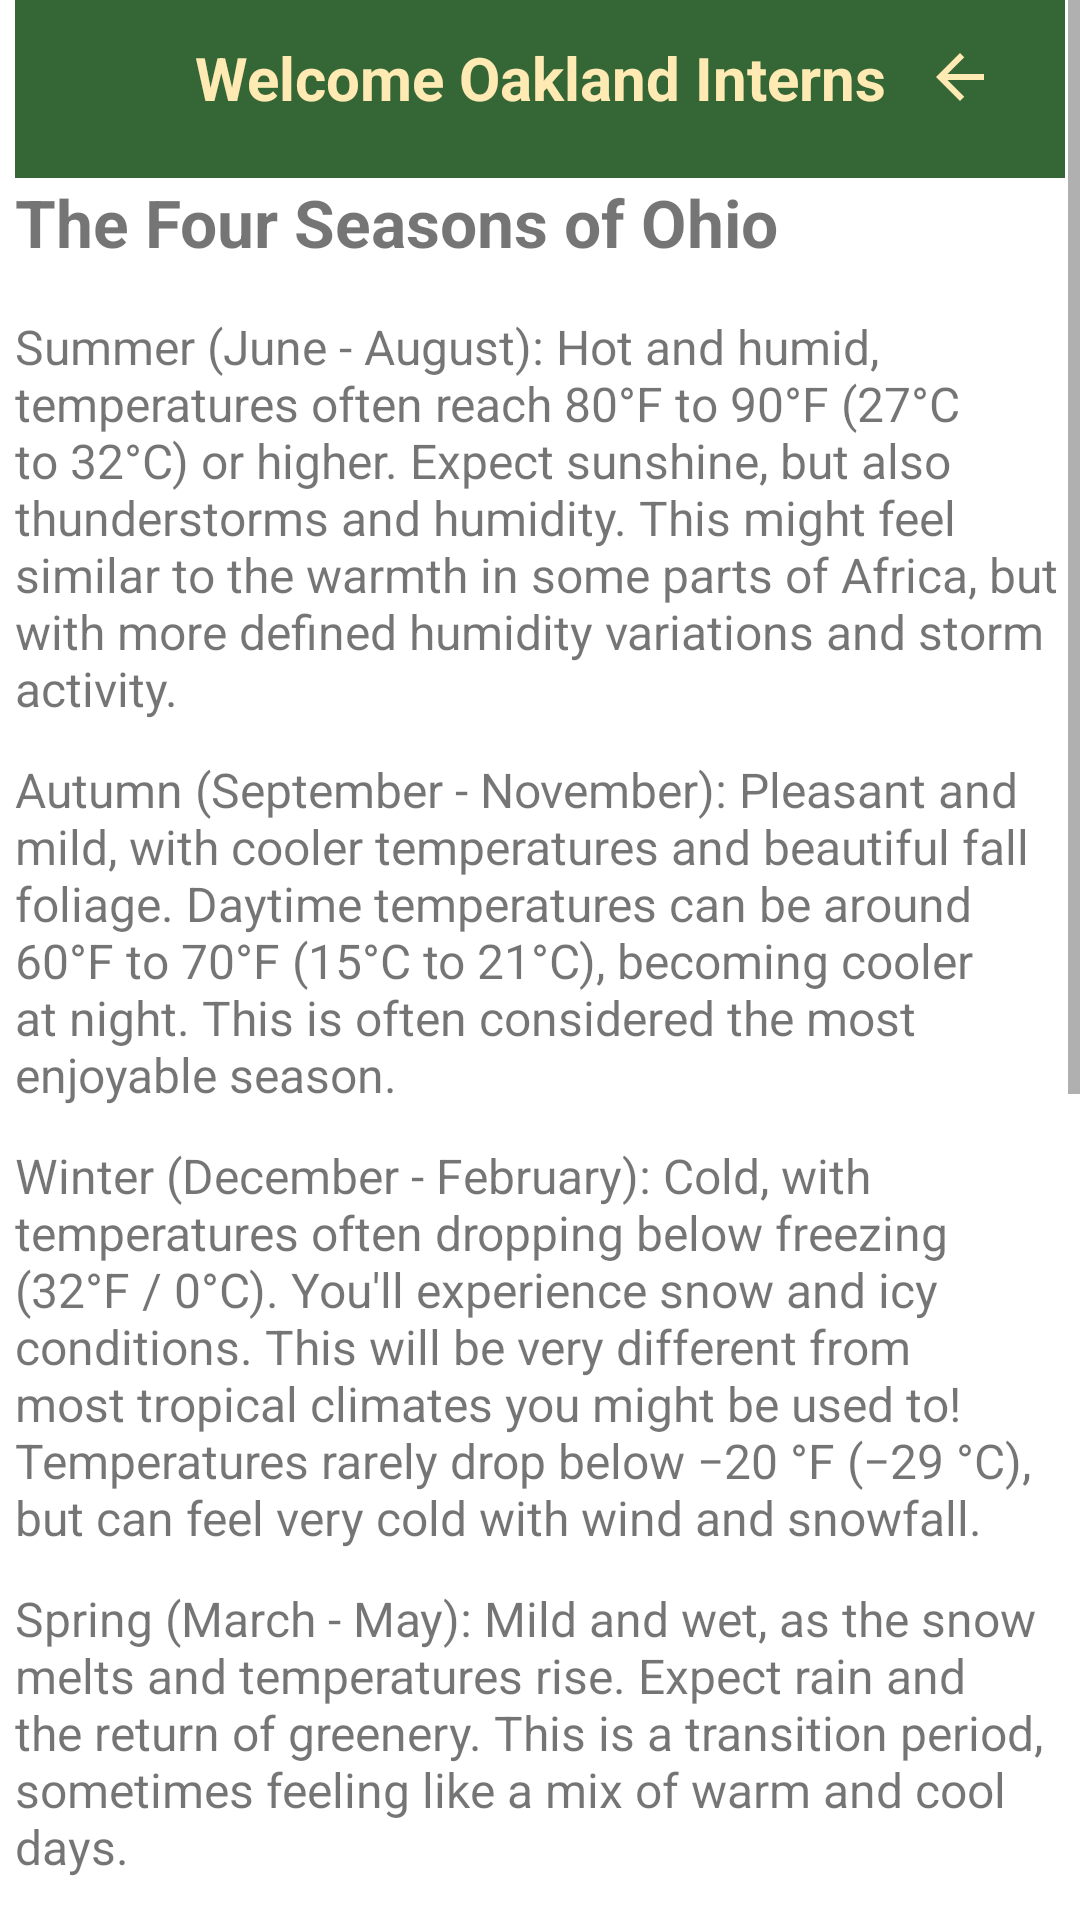

Where to tap for icons on this 1080*1920 app screen, as point (x, y):
back: point (960, 77)
